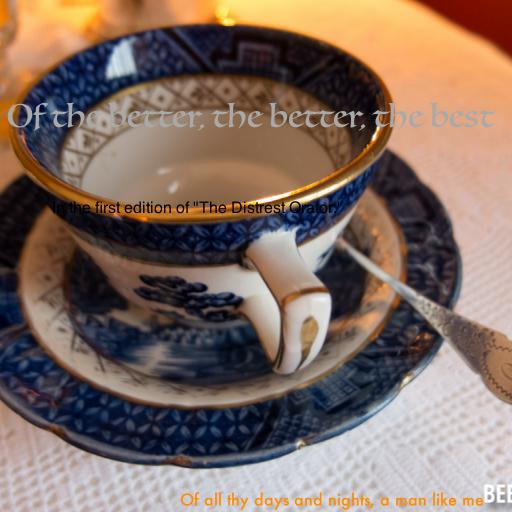Big Caslon: (51, 201, 343, 214)
Futura: (180, 492, 484, 510)
Luminari: (6, 102, 494, 131)
